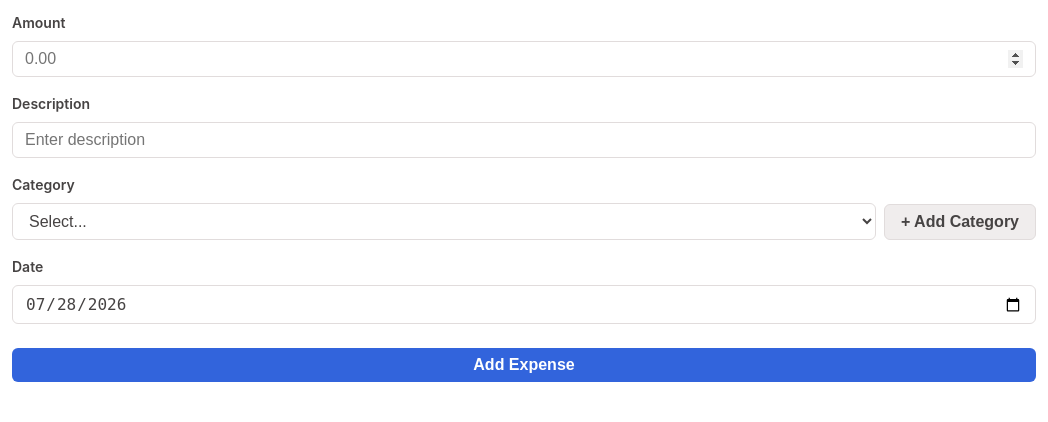
Test: ExpenseForm › shows a validation error and does not submit for a zero amount
Type "0" into the number field labelled "Amount" at coordinates (524, 59), box [12,41,1036,77]
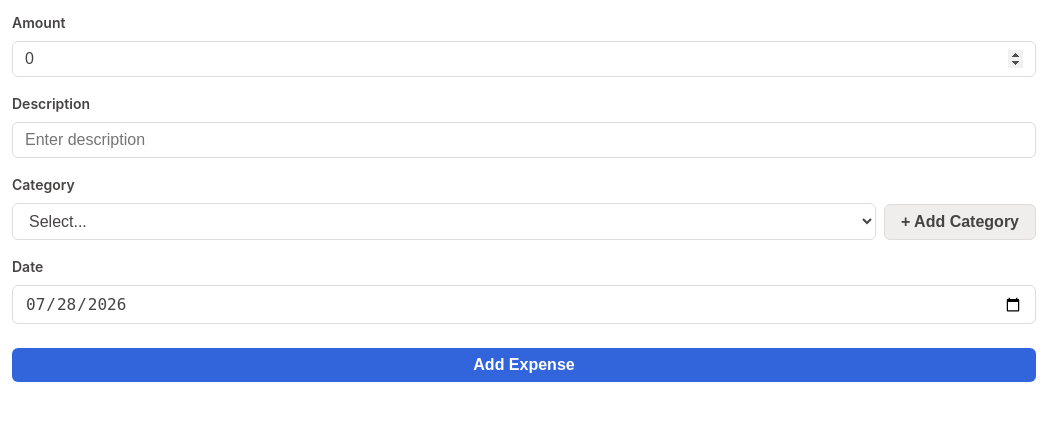
Type "Lunch" into the field labelled "Description" at coordinates (524, 140), box [12,122,1036,158]
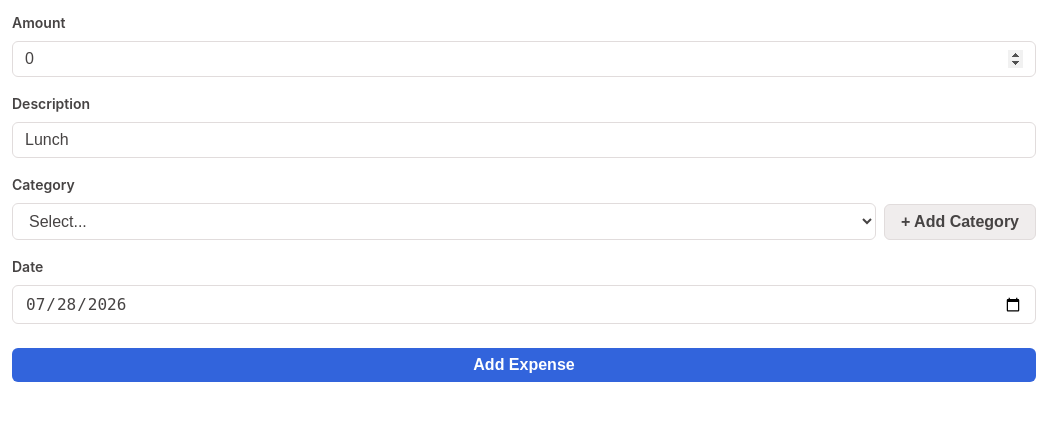
Select "🍔 Food" in the dropdown labelled "Category" at coordinates (444, 222), box [12,203,876,240]
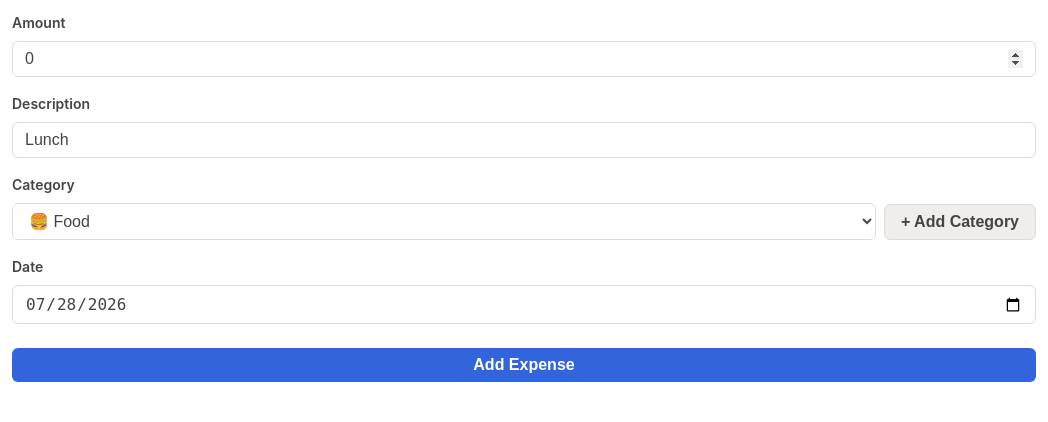
Click the button "Add Expense" at coordinates (524, 365), box [12,348,1036,382]
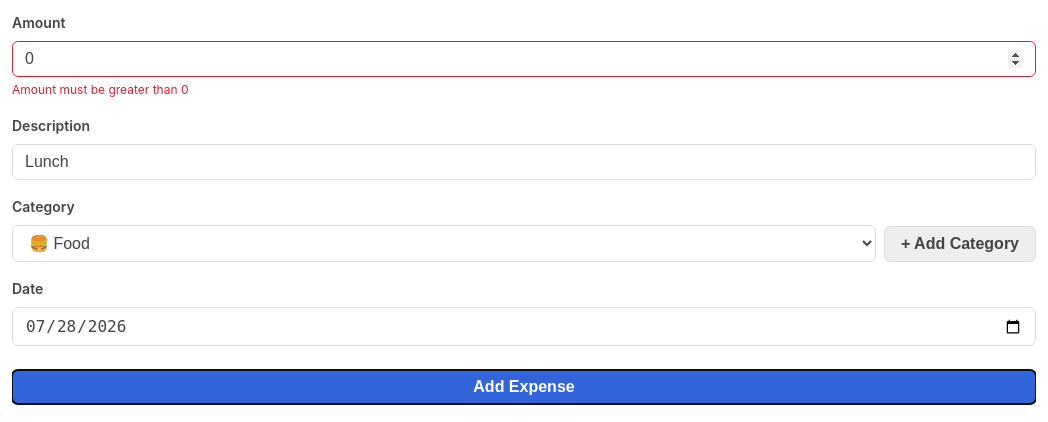
Result: the text "Amount must be greater than 0" is shown at [12,82,188,97]
